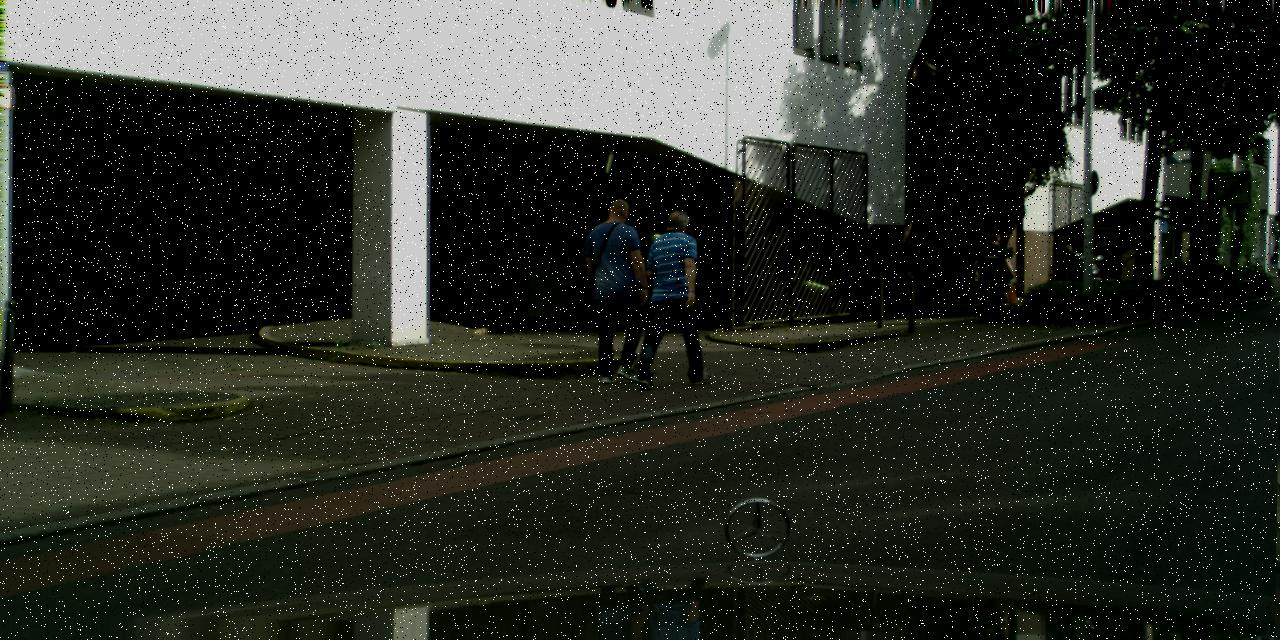ped: (581, 198, 655, 378), (639, 210, 710, 384), (974, 231, 1010, 320)
